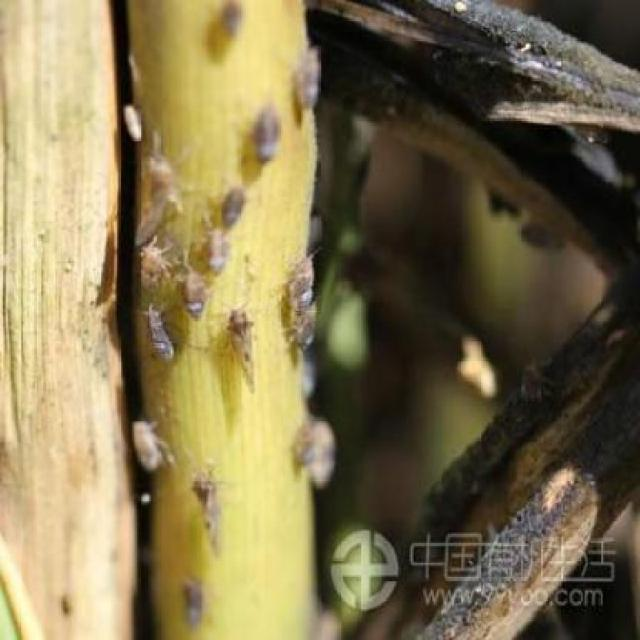brown-planthopper: (222, 306, 264, 396), (292, 416, 334, 486), (191, 470, 223, 552), (285, 297, 330, 352), (142, 297, 176, 363), (250, 100, 282, 168), (283, 248, 315, 306), (131, 418, 164, 469), (296, 44, 321, 110), (138, 238, 164, 298), (180, 574, 205, 629), (180, 270, 208, 318), (206, 226, 226, 279), (222, 181, 243, 230), (124, 99, 147, 139)
